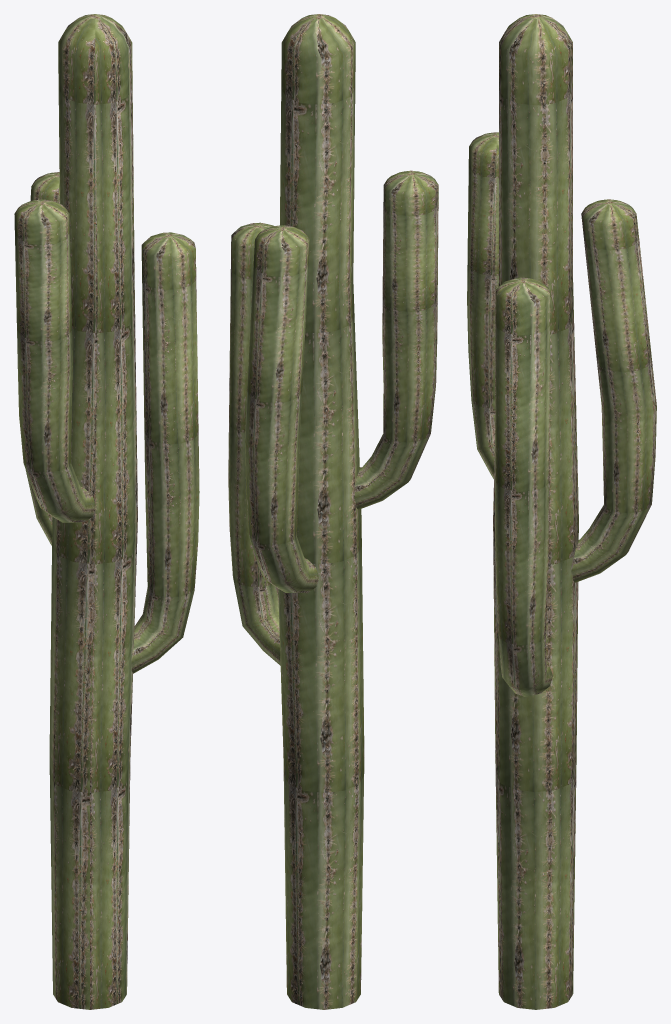
Rendered from cactus1.fbx.
3 renders of one model, left to right at view 1: azimuth 30°, elevation 25°; view 2: azimuth 150°, elevation 25°; view 3: azimuth 270°, elevation 25°, orthographic.
Visible parts, largest first — view 1: cactus1; view 2: cactus1; view 3: cactus1.
Boxes of the visible parts, box(x1,y1,x2,y2) form: cactus1: box(14, 14, 199, 1009); cactus1: box(228, 14, 438, 1009); cactus1: box(467, 14, 656, 1009).
Bounding box in the file's own units: 19.13 × 93.72 × 16.46.
